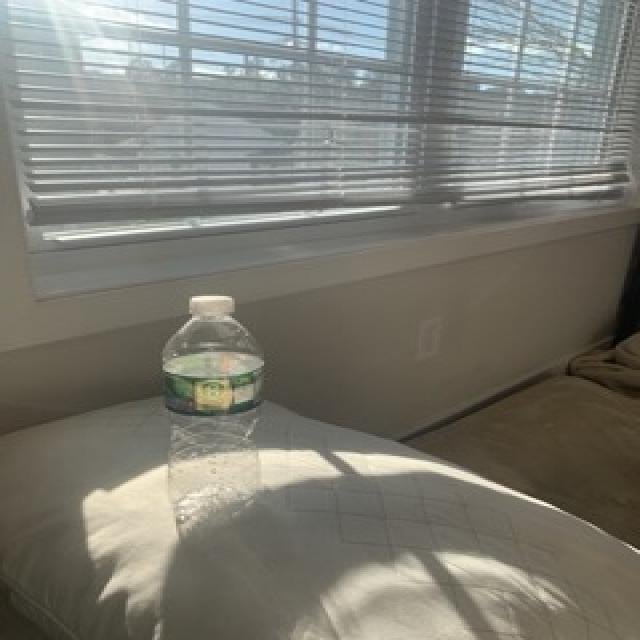water_bottle: (163, 292, 270, 521)
